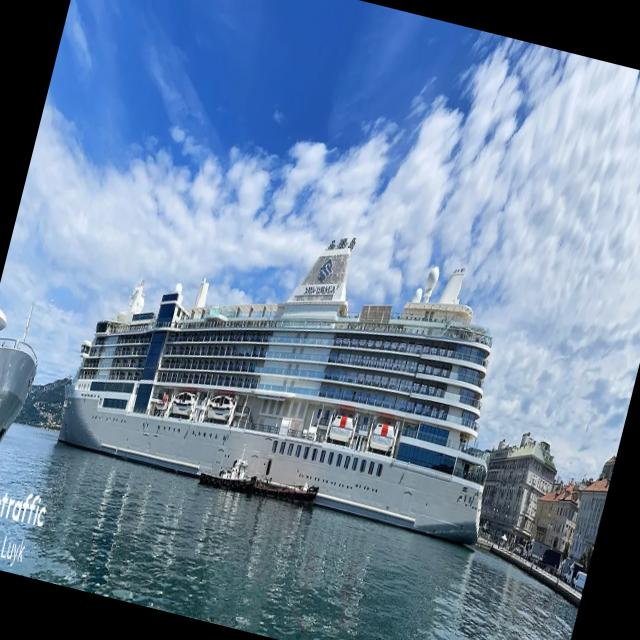Cruise: (58, 236, 491, 544)
Tug: (199, 459, 258, 492)
